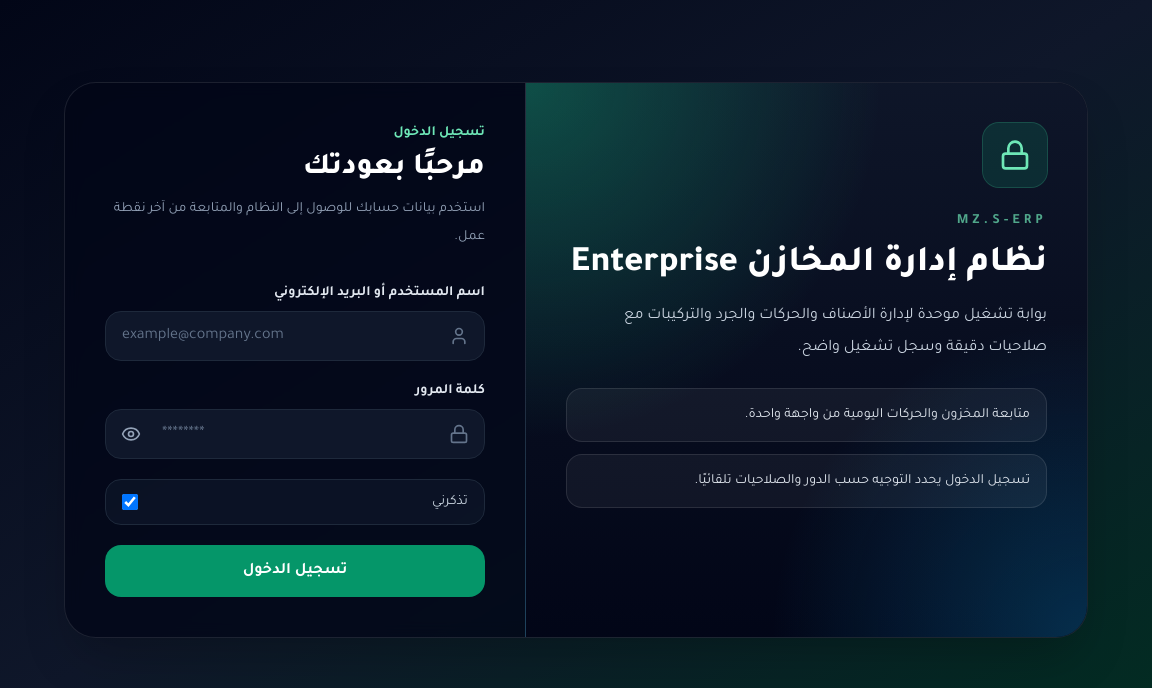
Test: LoginV2 › لا يعرض إجراء إعادة ضبط المحاولات من شاشة الدخول العامة عند خطأ Too many requests
Step 1. Type "reset.user" into the field with placeholder "example@company.com" → coordinates (295, 336), box [105,311,485,361]
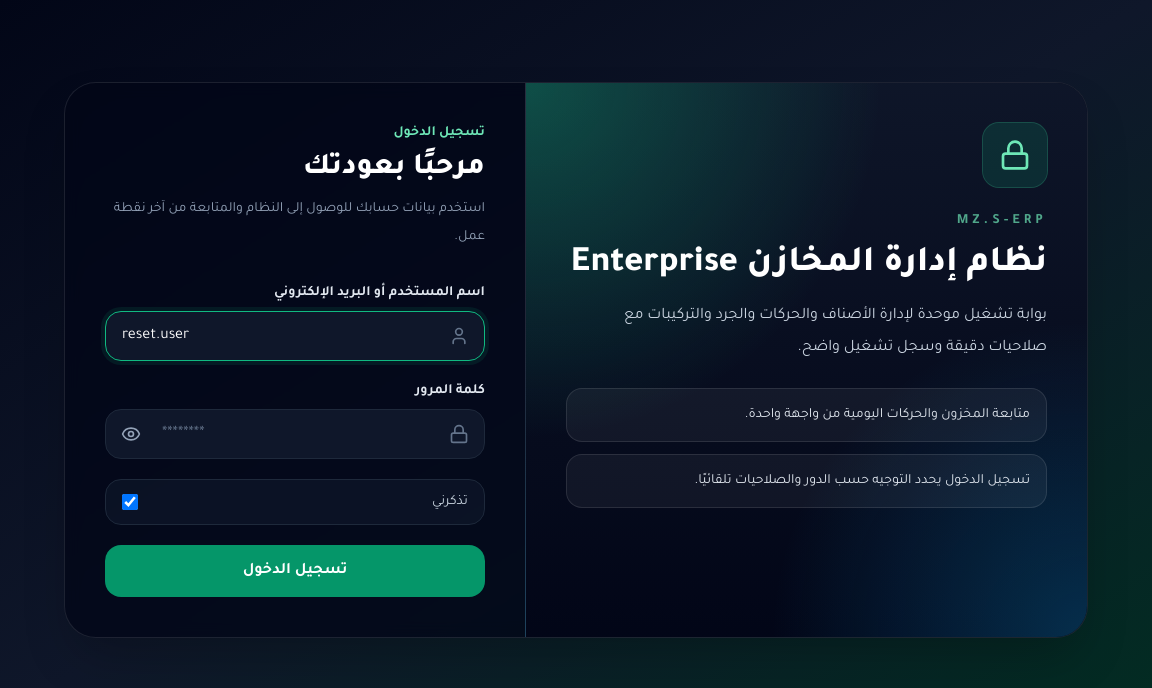
Step 2. Type "reset-pass" into the password field with placeholder "********" → coordinates (295, 434), box [105,409,485,459]
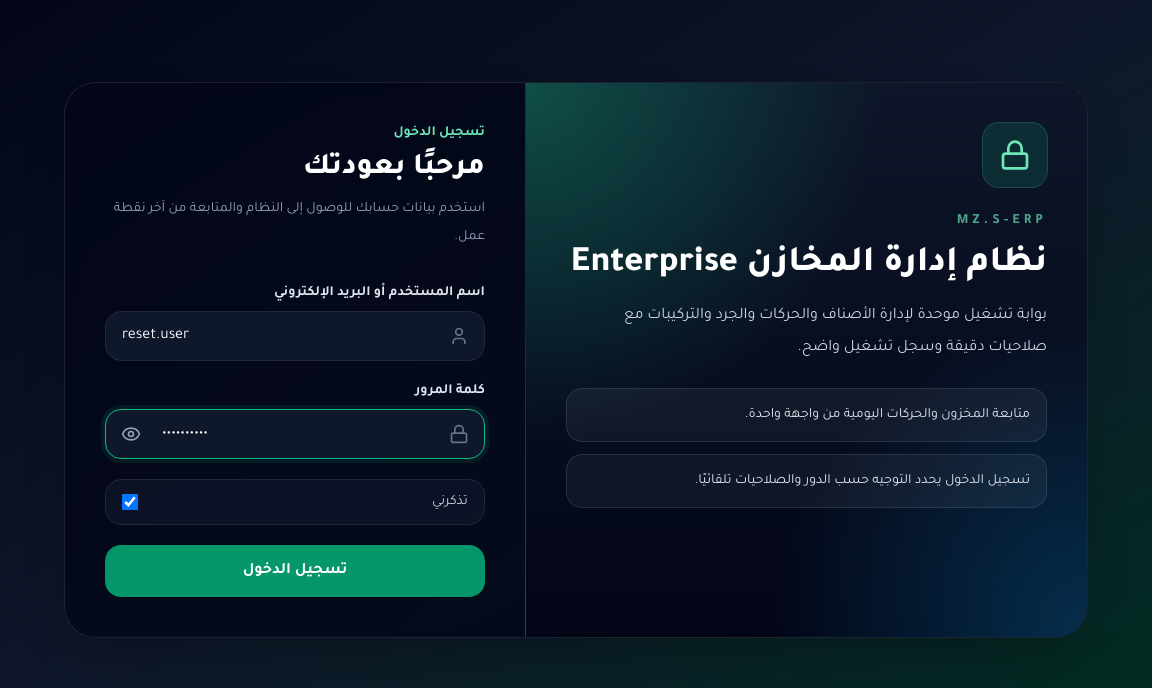
Step 3. Click the button "تسجيل الدخول" → coordinates (295, 571), box [105,545,485,597]
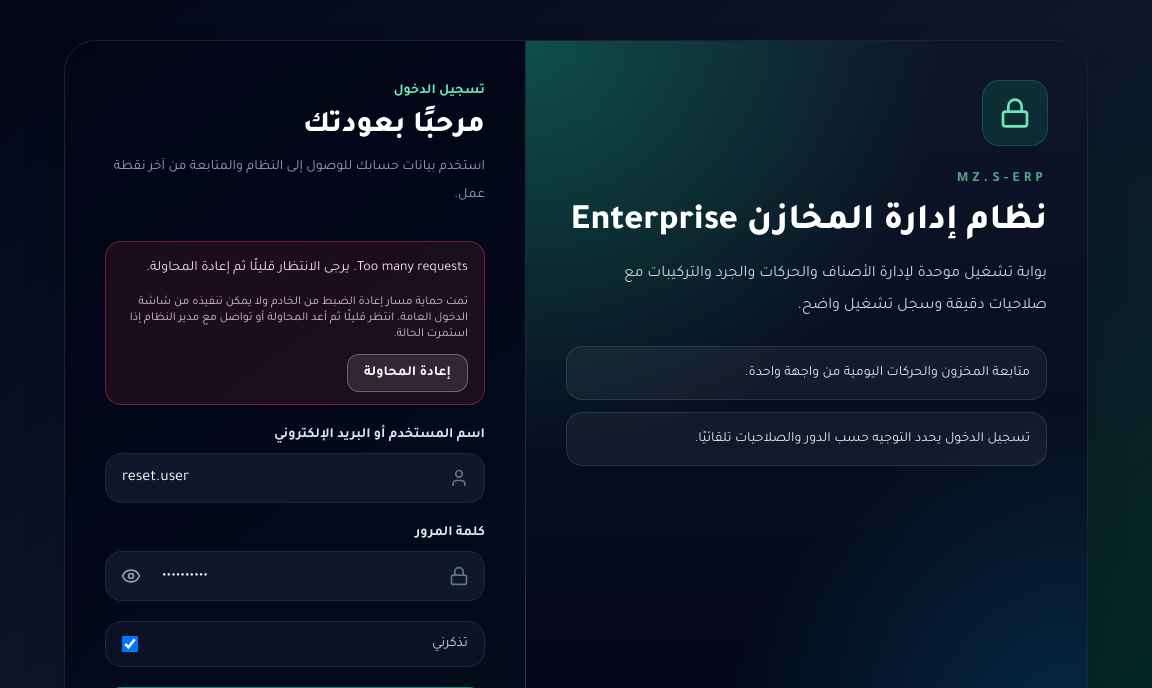
Now the button "إعادة المحاولة" is shown, box [347,354,468,392]
Now the text "تمت حماية مسار إعادة الضبط من الخادم" is shown, box [130,296,468,340]
